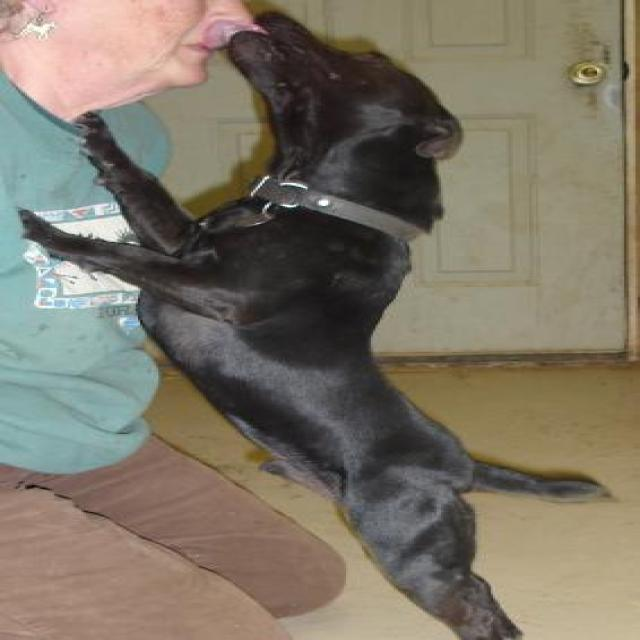Dogs: (16, 9, 613, 639)
